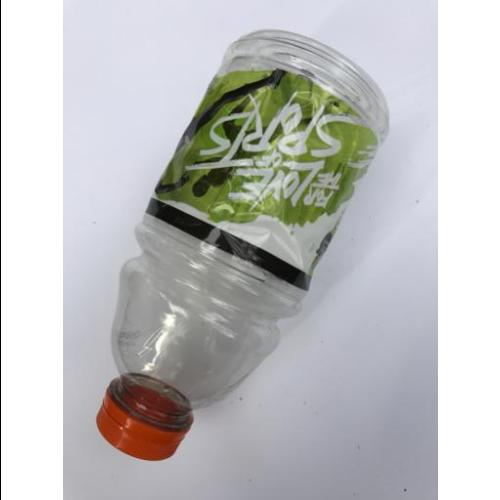plastic: (95, 29, 391, 460)
